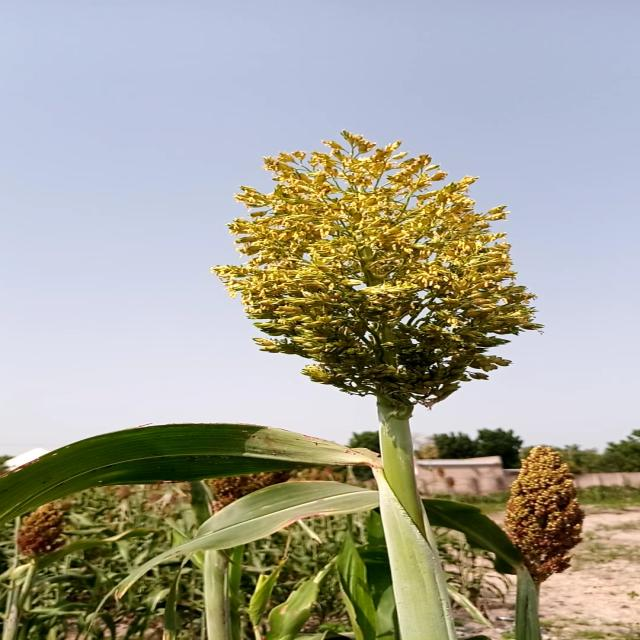UnripeSorghum: (202, 117, 584, 412)
